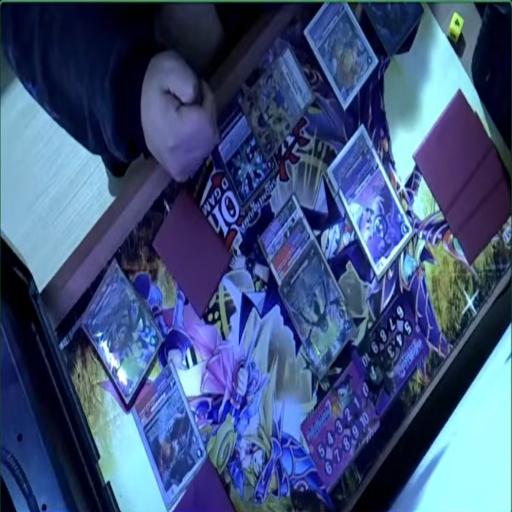card: (82, 264, 162, 404), (135, 361, 205, 502), (284, 240, 354, 378), (342, 146, 410, 274), (235, 49, 313, 158), (304, 0, 378, 114), (216, 92, 274, 214), (258, 195, 300, 262), (328, 126, 370, 193), (268, 221, 310, 283)
